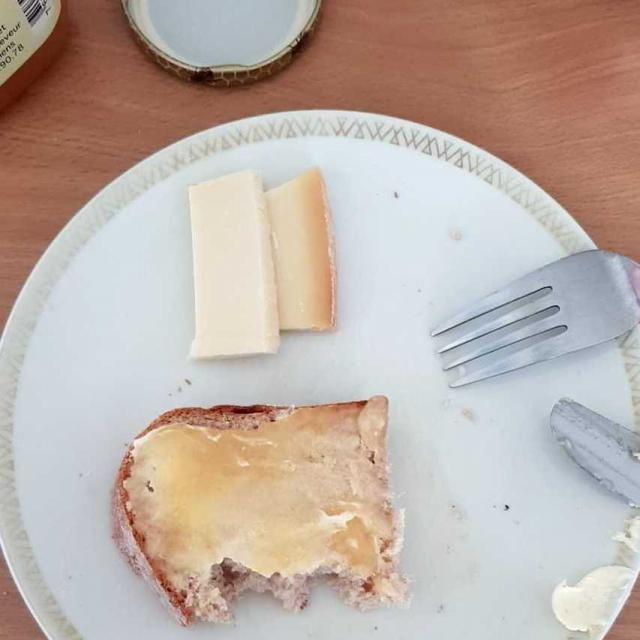bread: (117, 405, 405, 621)
cheese: (190, 166, 343, 370)
honey: (148, 419, 383, 581)
